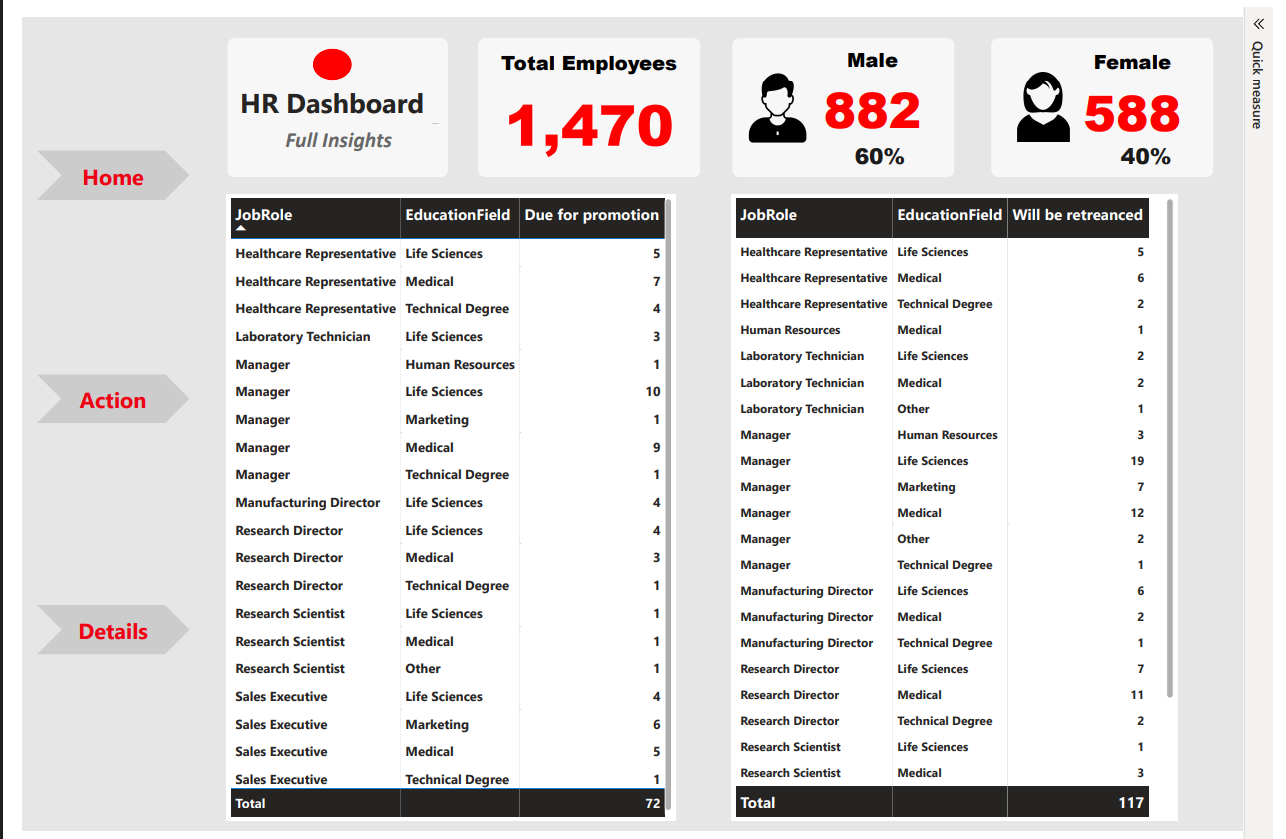

Layout of this report page (visuals, bound fields, positions):
{"tool":"powerbi","page":{"name":"Action","canvas":[1500,1000],"ordinal":1},"visuals":[{"type":"shape","box":[251.7,25,271.7,171.7],"z":0},{"type":"textbox","title":"HR Dashboard","box":[245,81.7,271.7,55],"z":1000},{"type":"textbox","title":"Full Insights","box":[310,135,158.3,35],"z":2000},{"type":"shape","box":[356.7,38.3,48.3,38.3],"z":3000},{"type":"shape","box":[560,25,273.3,171.7],"z":4000},{"type":"card","title":"Total Employees","fields":{"Values":["Measures (2).Total Emp"]},"box":[560,38.3,273.3,145],"z":5000},{"type":"shape","box":[871.7,25,273.3,171.7],"z":6000},{"type":"shape","box":[1190,25,273.3,171.7],"z":7000},{"type":"card","title":"Male","fields":{"Values":["Measures (2).Male"]},"box":[966.7,35,155,118.3],"z":8000},{"type":"card","title":"Female","fields":{"Values":["Measures (2).Female"]},"box":[1226.5,36.9,273.1,119],"z":9000},{"type":"card","title":"Male","fields":{"Values":["Measures (2).% male"]},"box":[961.7,126.7,183.3,90],"z":10000},{"type":"card","title":"Male","fields":{"Values":["Measures (2).% Female"]},"box":[1289.4,126.9,182.5,90.4],"z":11000},{"type":"image","box":[880,60,95,103.3],"z":12000},{"type":"image","box":[1206.4,58.6,95.5,102.2],"z":13000},{"type":"tableEx","fields":{"Values":["Hr Analytics.JobRole","Hr Analytics.EducationField","All Measure.Due for promotion"]},"box":[251.3,217.8,551.3,769.1],"z":14000},{"type":"tableEx","fields":{"Values":["Hr Analytics.JobRole","Hr Analytics.EducationField","All Measure.Will be retreanced"]},"box":[871.3,217.8,547.9,769.1],"z":15000},{"type":"shape","box":[18.4,164.2,187.7,60.3],"z":16000},{"type":"shape","box":[18.4,439,187.7,60.3],"z":17000},{"type":"shape","box":[18.4,722.2,187.7,60.3],"z":18000}]}

Visuals, with their boxes on the page's 1500x1000 design canvas (x1, y1, x2, y2). These are canvas units, not pixel positions in the 1286x839 screenshot, which may show the page scaled, cropped or inside an application window:
shape: {"x1": 252, "y1": 25, "x2": 523, "y2": 197}
"HR Dashboard" textbox: {"x1": 245, "y1": 82, "x2": 517, "y2": 137}
"Full Insights" textbox: {"x1": 310, "y1": 135, "x2": 468, "y2": 170}
shape: {"x1": 357, "y1": 38, "x2": 405, "y2": 77}
shape: {"x1": 560, "y1": 25, "x2": 833, "y2": 197}
"Total Employees" card: {"x1": 560, "y1": 38, "x2": 833, "y2": 183}
shape: {"x1": 872, "y1": 25, "x2": 1145, "y2": 197}
shape: {"x1": 1190, "y1": 25, "x2": 1463, "y2": 197}
"Male" card: {"x1": 967, "y1": 35, "x2": 1122, "y2": 153}
"Female" card: {"x1": 1226, "y1": 37, "x2": 1500, "y2": 156}
"Male" card: {"x1": 962, "y1": 127, "x2": 1145, "y2": 217}
"Male" card: {"x1": 1289, "y1": 127, "x2": 1472, "y2": 217}
image: {"x1": 880, "y1": 60, "x2": 975, "y2": 163}
image: {"x1": 1206, "y1": 59, "x2": 1302, "y2": 161}
tableEx - Hr Analytics.JobRole x Hr Analytics.EducationField: {"x1": 251, "y1": 218, "x2": 803, "y2": 987}
tableEx - Hr Analytics.JobRole x Hr Analytics.EducationField: {"x1": 871, "y1": 218, "x2": 1419, "y2": 987}
shape: {"x1": 18, "y1": 164, "x2": 206, "y2": 224}
shape: {"x1": 18, "y1": 439, "x2": 206, "y2": 499}
shape: {"x1": 18, "y1": 722, "x2": 206, "y2": 782}
